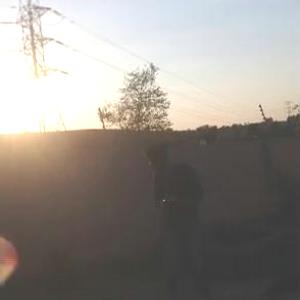follow: (145, 136, 209, 299)
